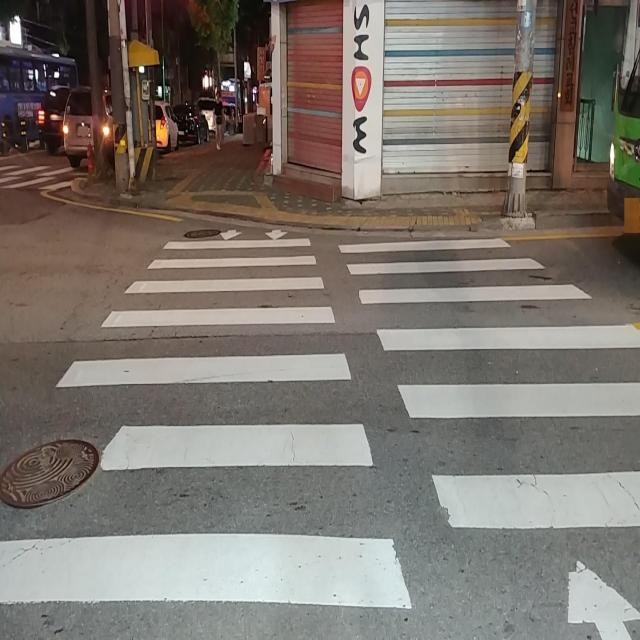횡단보도: (2, 221, 638, 637), (0, 159, 86, 186)
